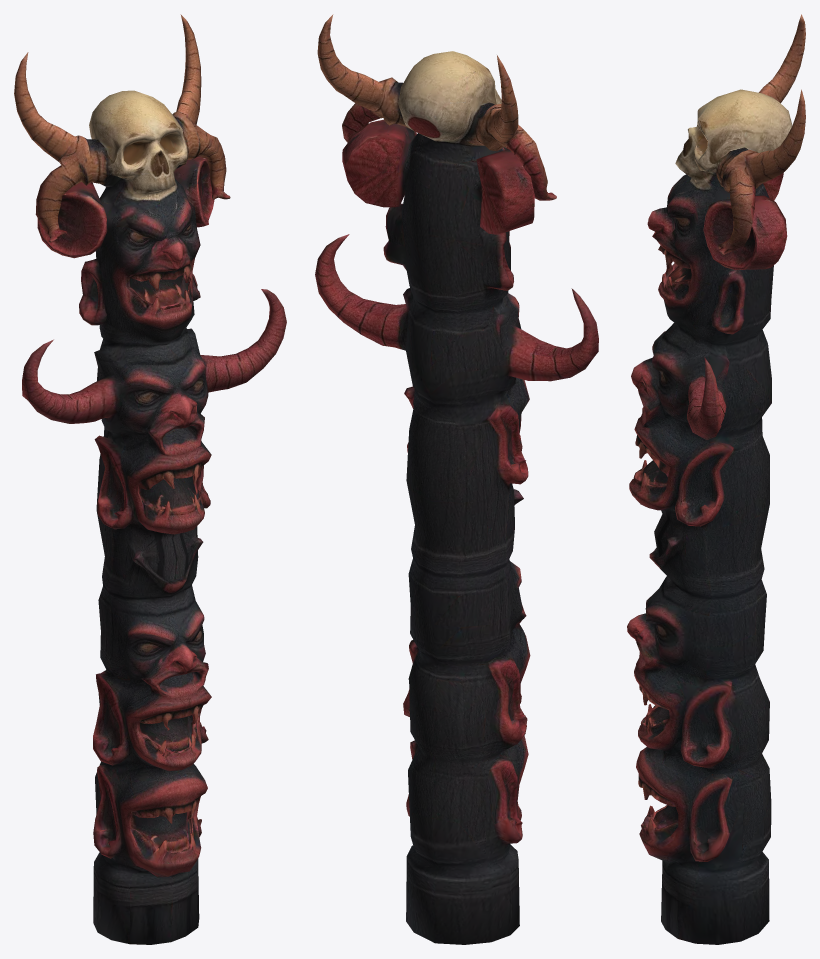
Rendered from war_totem.glb.
The picture shows the model from 3 angles, left to right: view 1: azimuth 30°, elevation 25°; view 2: azimuth 150°, elevation 25°; view 3: azimuth 270°, elevation 25°; orthographic projection. The views are drawn at different scales.
Size of the model in its own units: 0.3032 by 0.9521 by 0.1772.
Materials: 1 (1 with a texture image).
